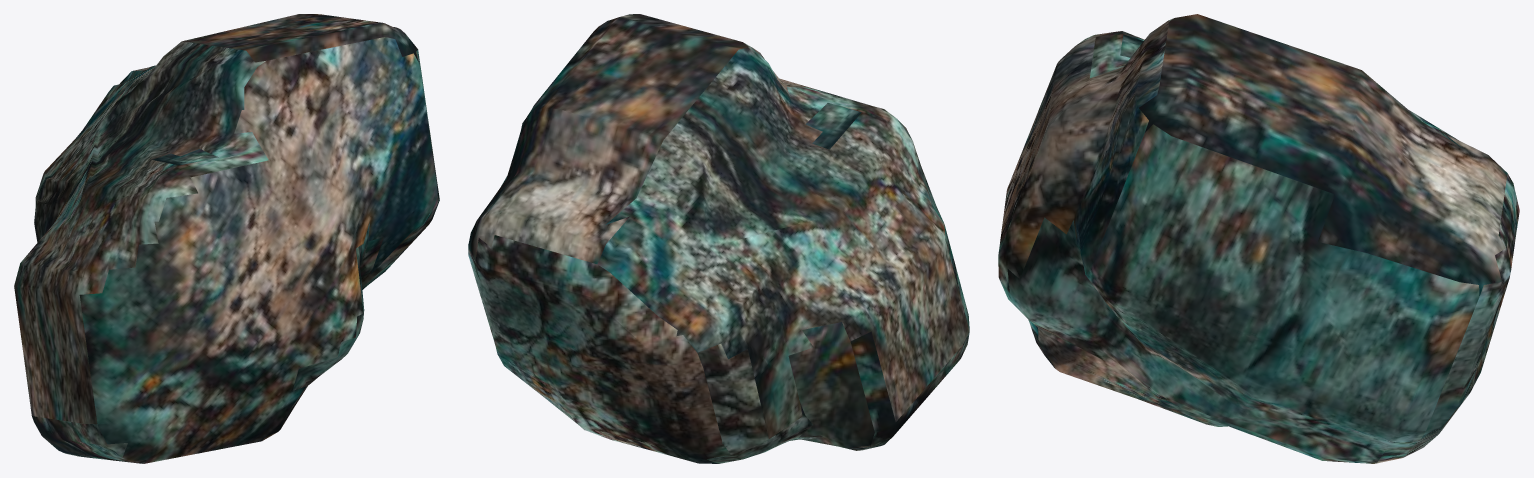
File: med1.glb
The picture shows the model from 3 angles, left to right: view 1: azimuth 30°, elevation 25°; view 2: azimuth 150°, elevation 25°; view 3: azimuth 270°, elevation 25°; orthographic projection. The views are drawn at different scales.
Visible parts, largest first — view 1: дом.006; view 2: дом.006; view 3: дом.006.
Boxes of the visible parts, x1,y1,x2,y2 form: дом.006: (14,14,439,463); дом.006: (468,14,969,463); дом.006: (998,14,1519,463).
Bounding box in the file's own units: 0.5425 × 0.518 × 0.5679.
1 material, 1 textured.
